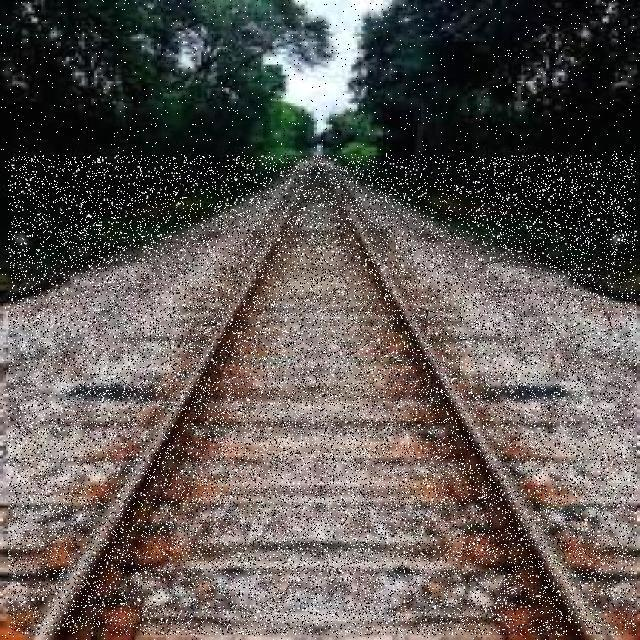rail: (9, 156, 636, 635)
